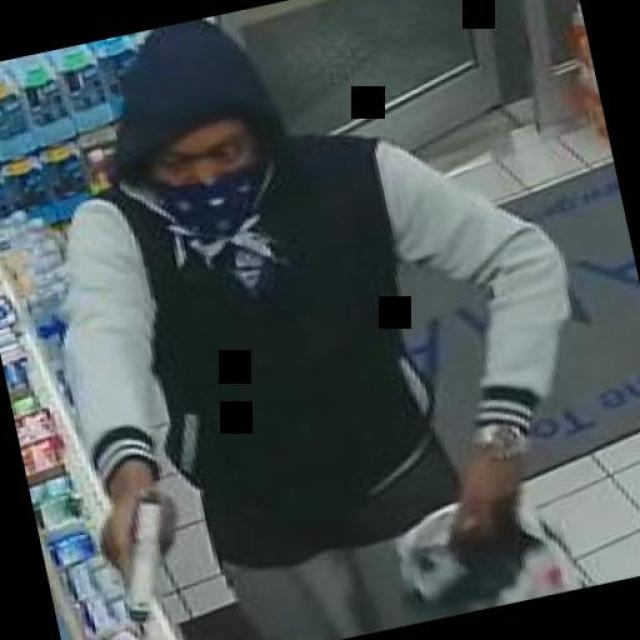gun: (86, 481, 200, 634)
